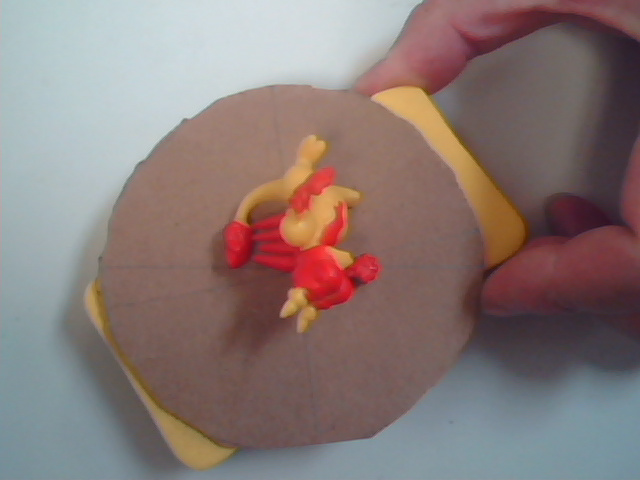magmar: (184, 129, 414, 340)
